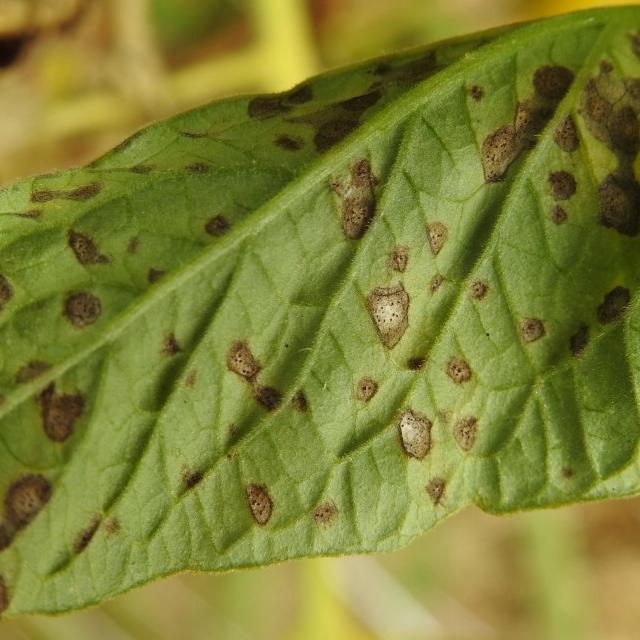Tomato Septoria leaf spot: (0, 0, 640, 627)
